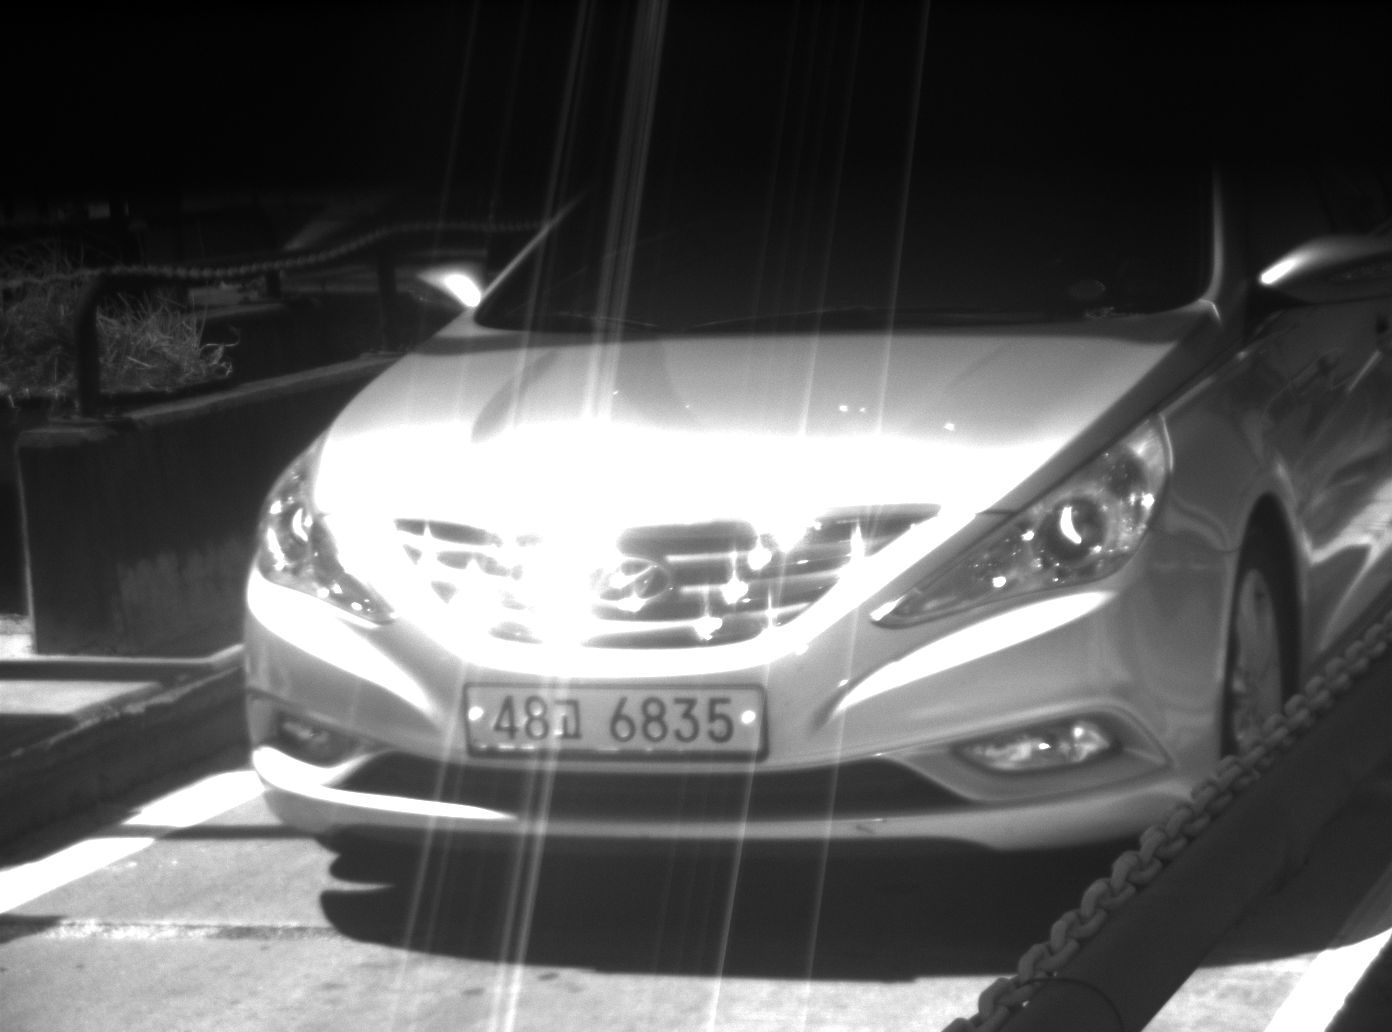car: (235, 193, 1392, 871)
plate: (463, 682, 767, 756)
